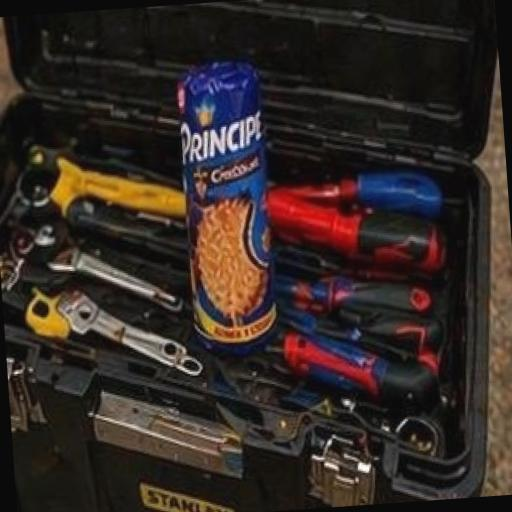prince: (118, 20, 366, 430)
